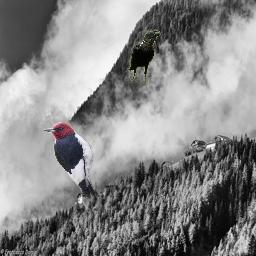Crow: (128, 29, 161, 84)
Woodpecker: (43, 122, 95, 198)
